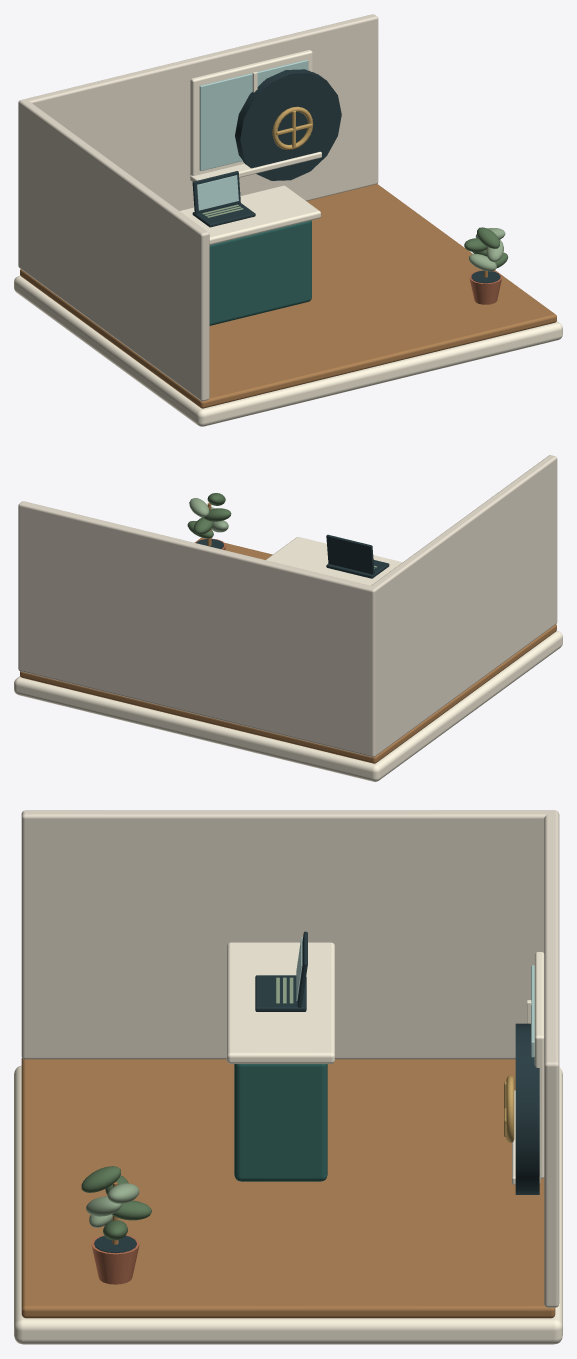
File: business-bank.glb
The picture shows the model from 3 angles, top to bottom: view 1: azimuth 30°, elevation 25°; view 2: azimuth 150°, elevation 25°; view 3: azimuth 270°, elevation 25°; orthographic projection. The views are drawn at different scales.
Visible parts, largest first — view 1: floor, side-wall, back-wall, foundation, counter, vault-door, window-glass, countertop, window-frame, screen, window-sill, keyboard-base (+3 smaller); view 2: back-wall, side-wall, foundation, floor, countertop, display-shell; view 3: side-wall, floor, foundation, countertop, counter, back-wall, vault-door, window-frame, keyboard-base, ceramic-pot, leaf.
Boxes of the visible parts, x1=… form: floor: x1=20, y1=184, x2=556, y2=408; side-wall: x1=20, y1=100, x2=209, y2=401; back-wall: x1=18, y1=14, x2=378, y2=269; foundation: x1=14, y1=275, x2=562, y2=426; counter: x1=209, y1=220, x2=311, y2=325; vault-door: x1=235, y1=69, x2=341, y2=180; window-glass: x1=199, y1=59, x2=308, y2=170; countertop: x1=179, y1=185, x2=320, y2=244; window-frame: x1=190, y1=50, x2=312, y2=175; screen: x1=197, y1=175, x2=238, y2=210; window-sill: x1=190, y1=151, x2=321, y2=181; keyboard-base: x1=192, y1=203, x2=255, y2=227; back-wall: x1=18, y1=501, x2=377, y2=757; side-wall: x1=371, y1=455, x2=557, y2=754; foundation: x1=14, y1=631, x2=562, y2=781; floor: x1=20, y1=537, x2=556, y2=763; countertop: x1=266, y1=537, x2=402, y2=585; display-shell: x1=326, y1=534, x2=374, y2=574; side-wall: x1=21, y1=810, x2=551, y2=1059; floor: x1=21, y1=1058, x2=555, y2=1318; foundation: x1=14, y1=1065, x2=562, y2=1344; countertop: x1=226, y1=942, x2=334, y2=1063; counter: x1=234, y1=1064, x2=327, y2=1181; back-wall: x1=544, y1=810, x2=559, y2=1307; vault-door: x1=515, y1=1023, x2=539, y2=1194; window-frame: x1=534, y1=952, x2=544, y2=1178; keyboard-base: x1=255, y1=975, x2=306, y2=1011; ceramic-pot: x1=91, y1=1235, x2=139, y2=1284; leaf: x1=81, y1=1166, x2=120, y2=1192.
Bounding box in the file's own units: 4.1 × 2.06 × 3.65.
